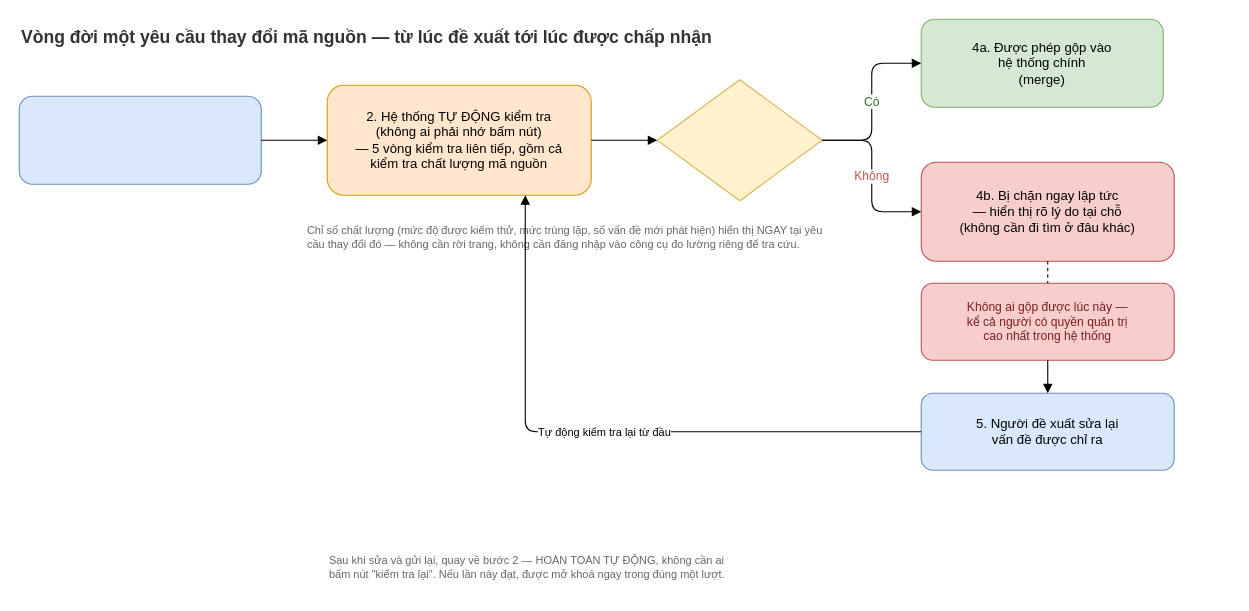
The diagram is 1249 pixels wide and 611 high, and some of its shapes have lost their labels. The centre of each missing label's shape, as x and y in pixels:
1. Một người trong đội đề xuất một thay đổi (mở "yêu cầu thay đổi"): the point at 139,139
Đạt tất cả kiểm tra?: the point at 739,140
